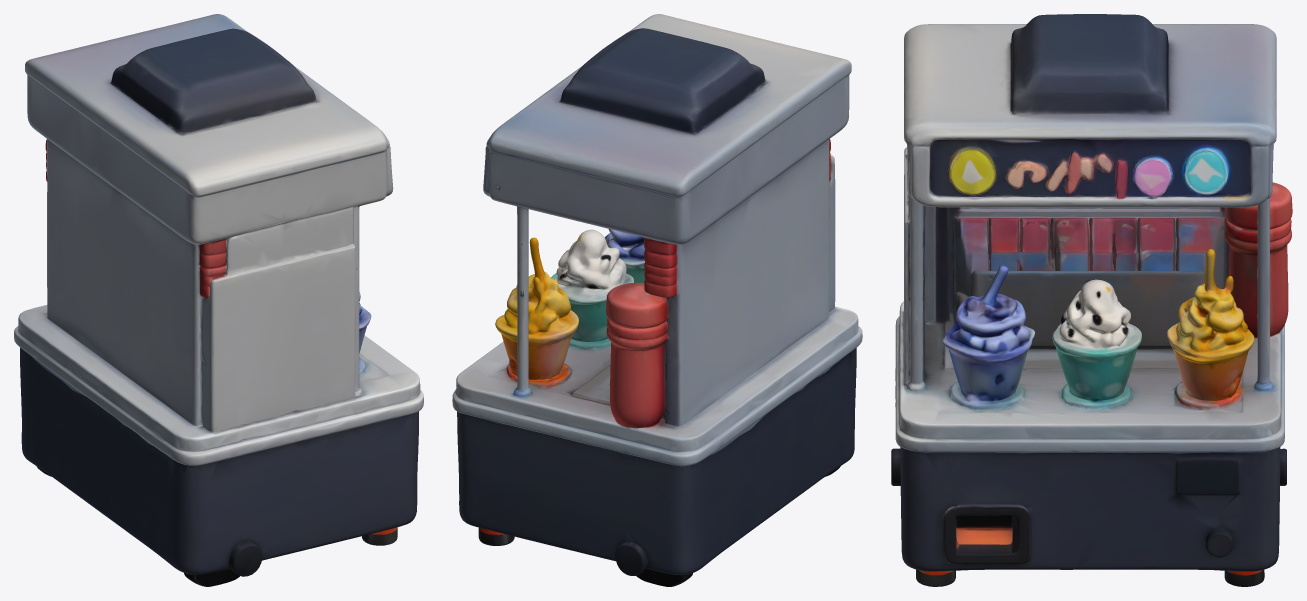
The model's file is prop-snow-cone.glb.
3 views of the same model, side by side, from view 1: azimuth 30°, elevation 25°; view 2: azimuth 150°, elevation 25°; view 3: azimuth 270°, elevation 25° (orthographic). The views are drawn at different scales.
Parts seen in each view (by area): view 1: tripo_node_8c5a476d-03fd-4bc3-a80f-634cd9b54075; view 2: tripo_node_8c5a476d-03fd-4bc3-a80f-634cd9b54075; view 3: tripo_node_8c5a476d-03fd-4bc3-a80f-634cd9b54075.
Boxes of the visible parts, <box> form: tripo_node_8c5a476d-03fd-4bc3-a80f-634cd9b54075: <box>14,14,423,586</box>; tripo_node_8c5a476d-03fd-4bc3-a80f-634cd9b54075: <box>452,14,862,586</box>; tripo_node_8c5a476d-03fd-4bc3-a80f-634cd9b54075: <box>891,14,1292,586</box>.
Size of the model in its own units: 0.7061 by 1.2 by 0.8881.
Materials: 1 (1 with a texture image).
